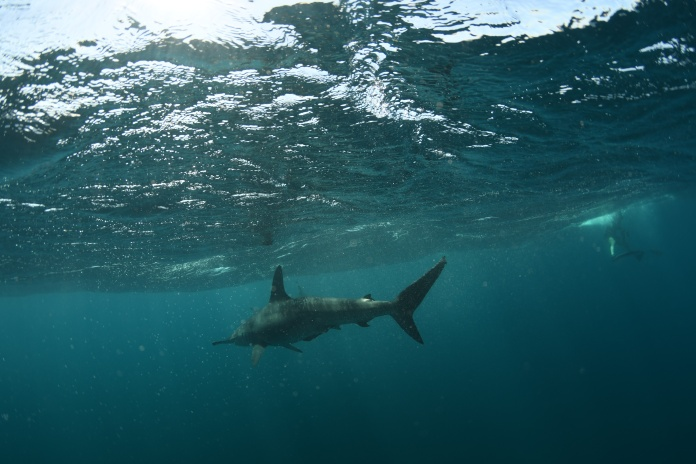Hammer: (179, 246, 500, 385)
